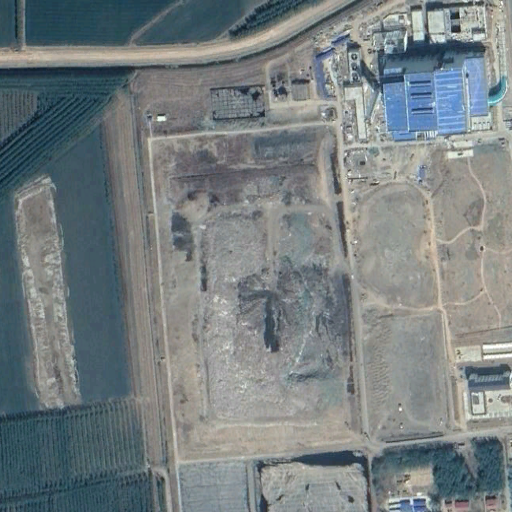lf: (141, 128, 361, 456)
